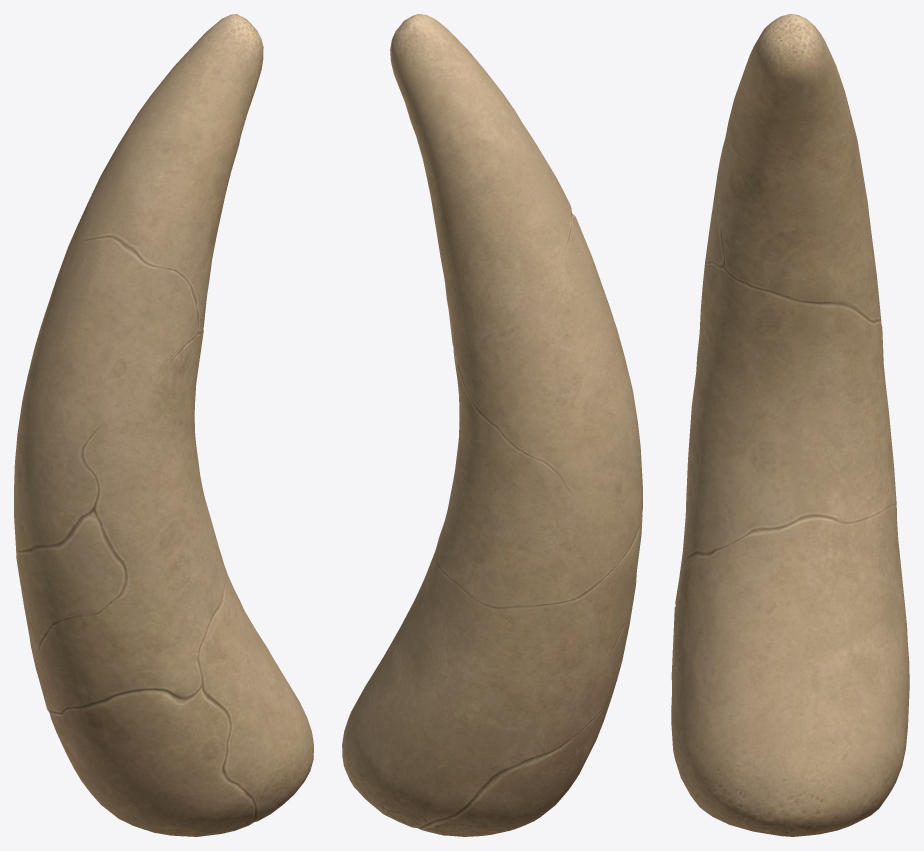
Rendered from tb_bone_01b.glb.
3 renders of one model, left to right at view 1: azimuth 30°, elevation 25°; view 2: azimuth 150°, elevation 25°; view 3: azimuth 270°, elevation 25°, orthographic. The views are drawn at different scales.
Visible parts, largest first — view 1: tb_bone_01b; view 2: tb_bone_01b; view 3: tb_bone_01b.
Part boxes in pixels (left/top/right/bottom): tb_bone_01b: left=14, top=14, right=313, bottom=836; tb_bone_01b: left=342, top=14, right=642, bottom=836; tb_bone_01b: left=671, top=14, right=909, bottom=836.
Size of the model in its own units: 3.6 by 9.92 by 2.59.
1 material, 1 textured.
